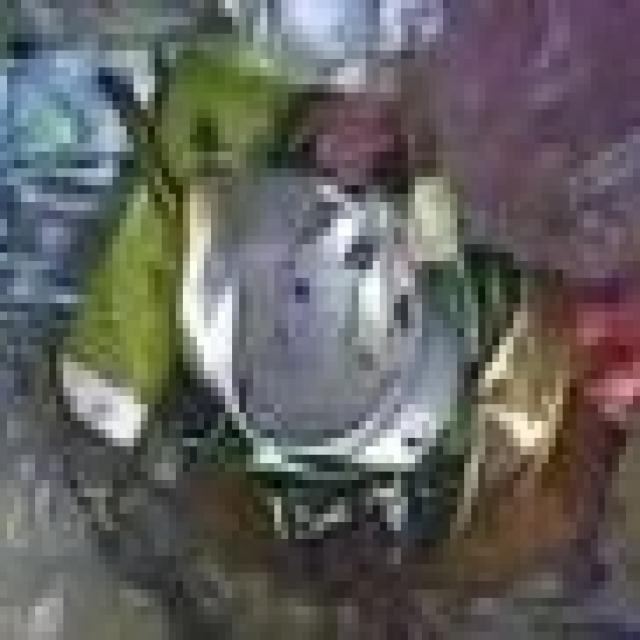can: (138, 97, 599, 577)
